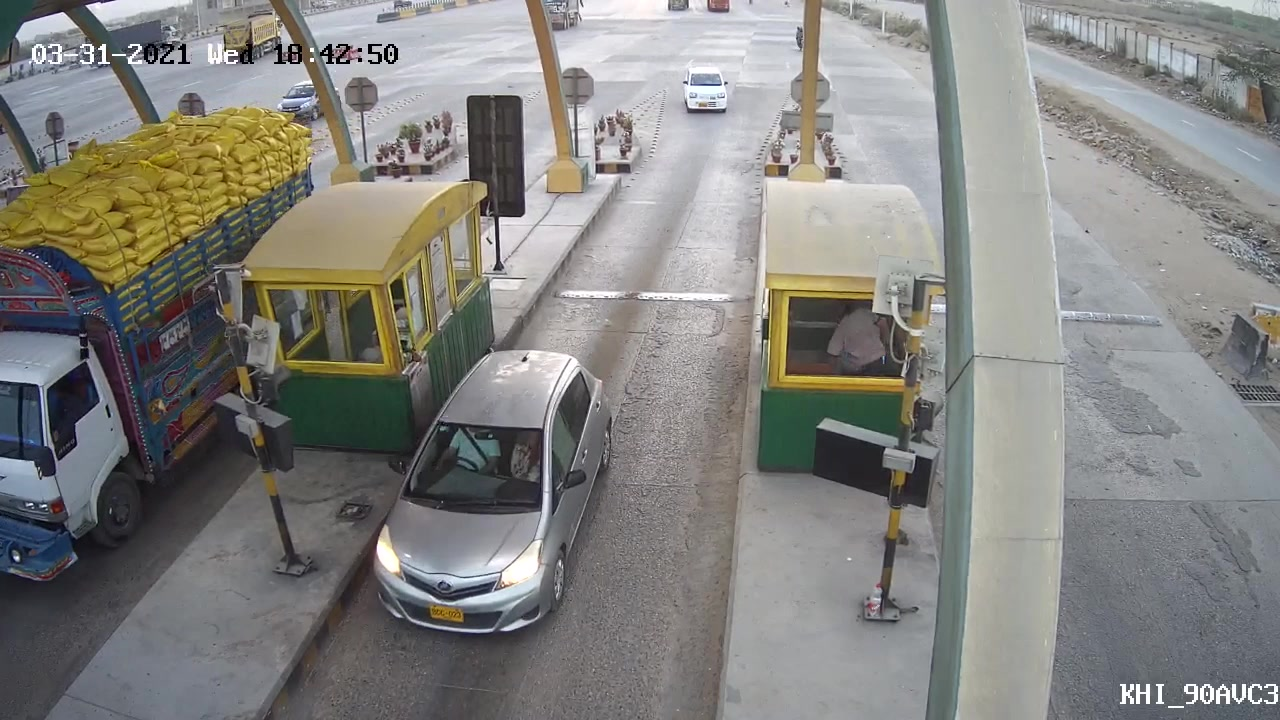F1: (374, 345, 618, 638)
